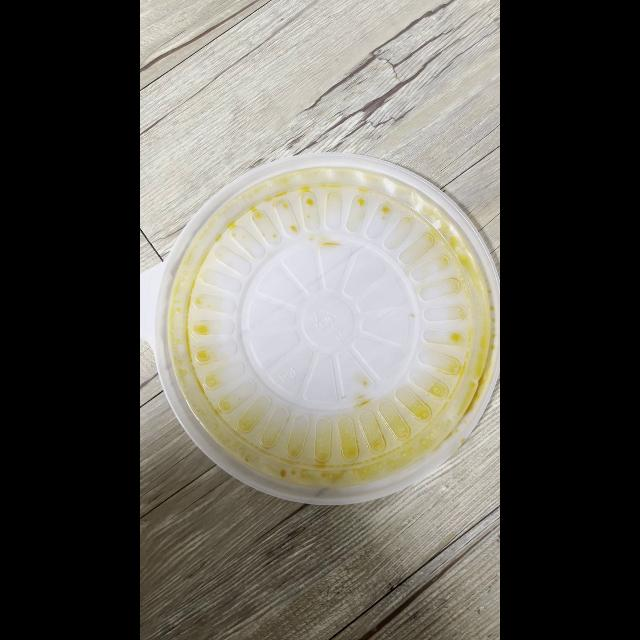dirty: (163, 153, 494, 493)
